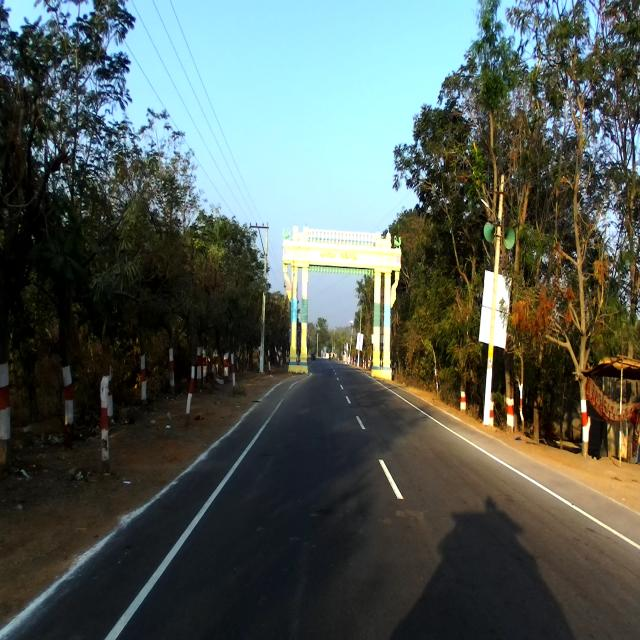electric pole ahead at: (479, 168, 516, 435)
tree ahead at: (562, 222, 596, 460), (89, 340, 115, 476), (53, 332, 84, 442)
